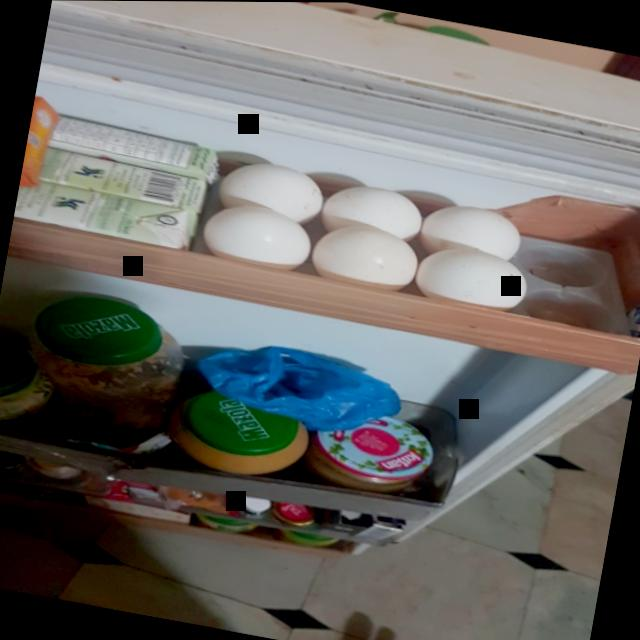eggs: (409, 243, 533, 319), (304, 218, 418, 299), (415, 188, 526, 267), (196, 198, 311, 274), (215, 152, 331, 224), (317, 171, 429, 244)
